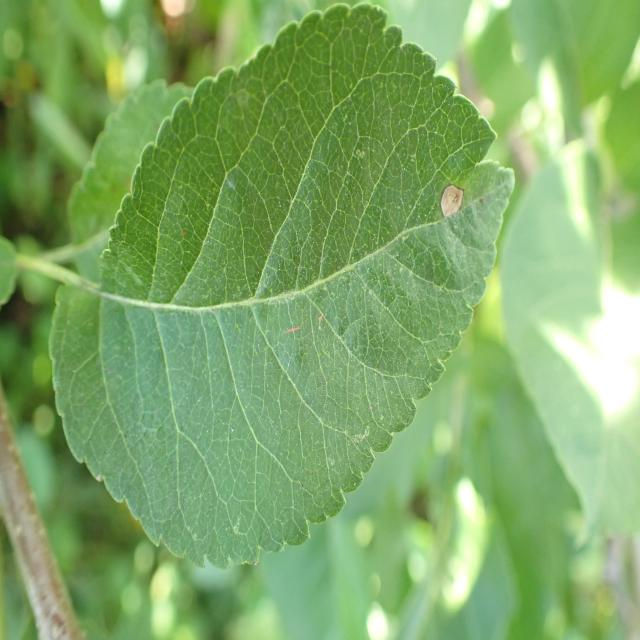Black Rot: (420, 171, 484, 241)
